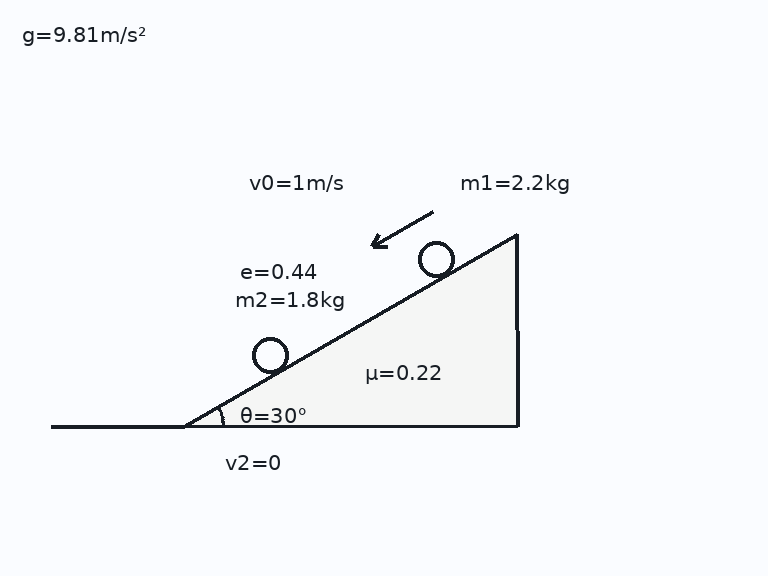ball: (416, 239, 456, 279), (250, 335, 290, 375)
ramp: (181, 232, 518, 428)
